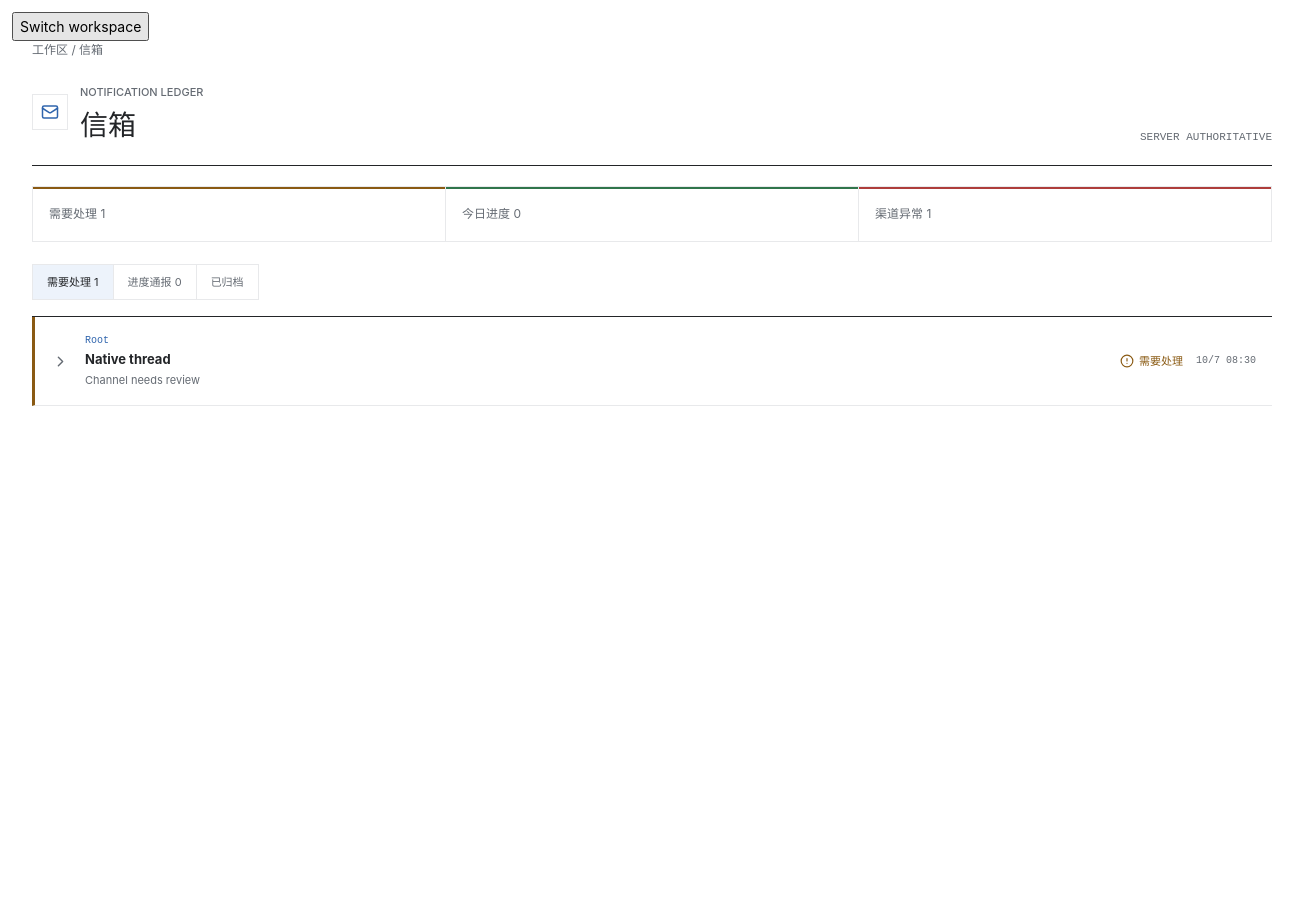
Scenario: actual native InboxPage › real native button mark_read maps legal version 4 with current user/CSRF
Expected: the text "Native thread" is shown, x1=85 y1=351 x2=171 y2=367
Click the button "Root Native thread Channel needs review 需要处理 10/7 08:30".
click(128, 359)  # box x1=35 y1=317 x2=1272 y2=405
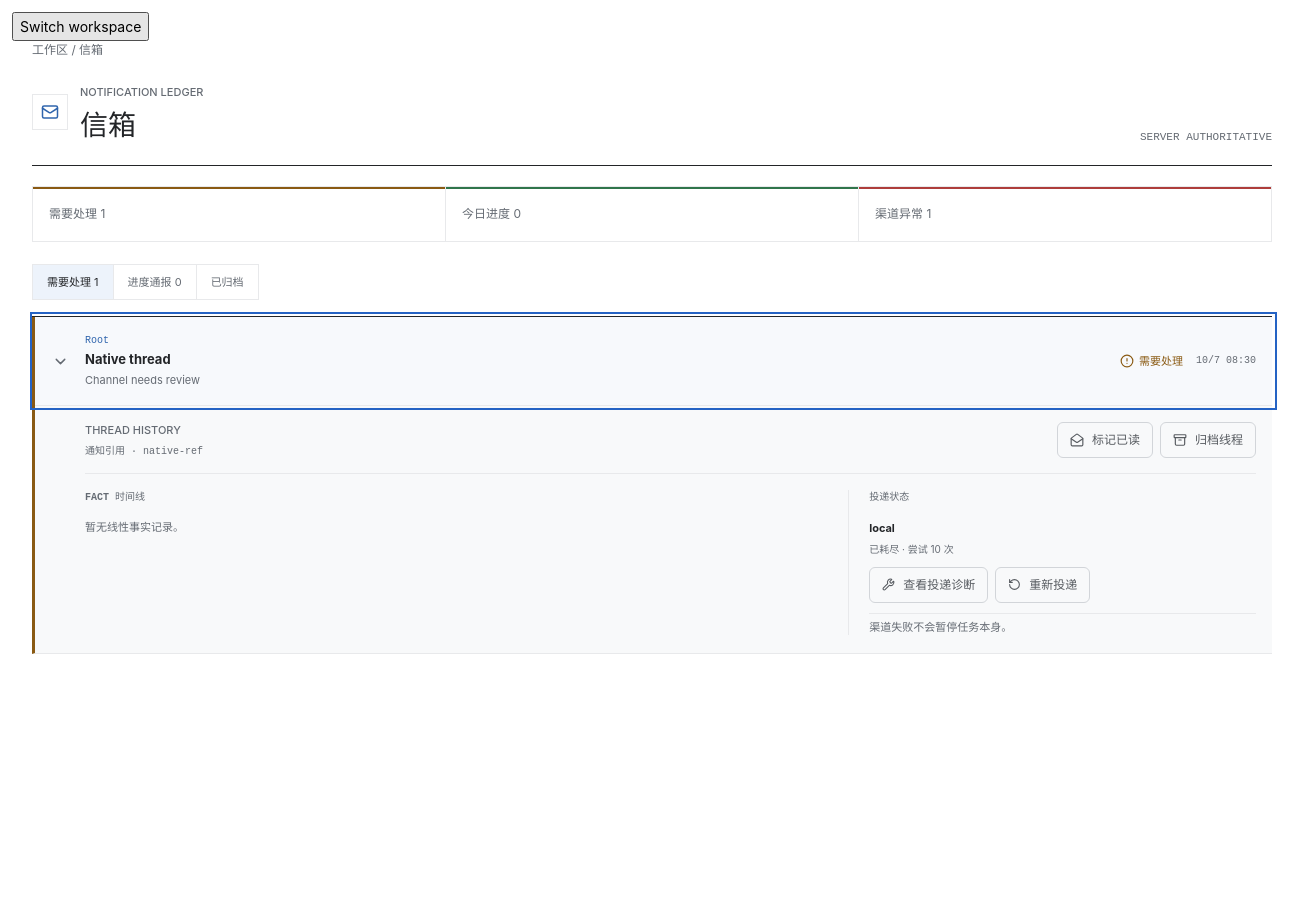
Expected: the button "标记已读" is enabled
Click the button "标记已读".
click(1105, 440)  # box x1=1057 y1=422 x2=1153 y2=458
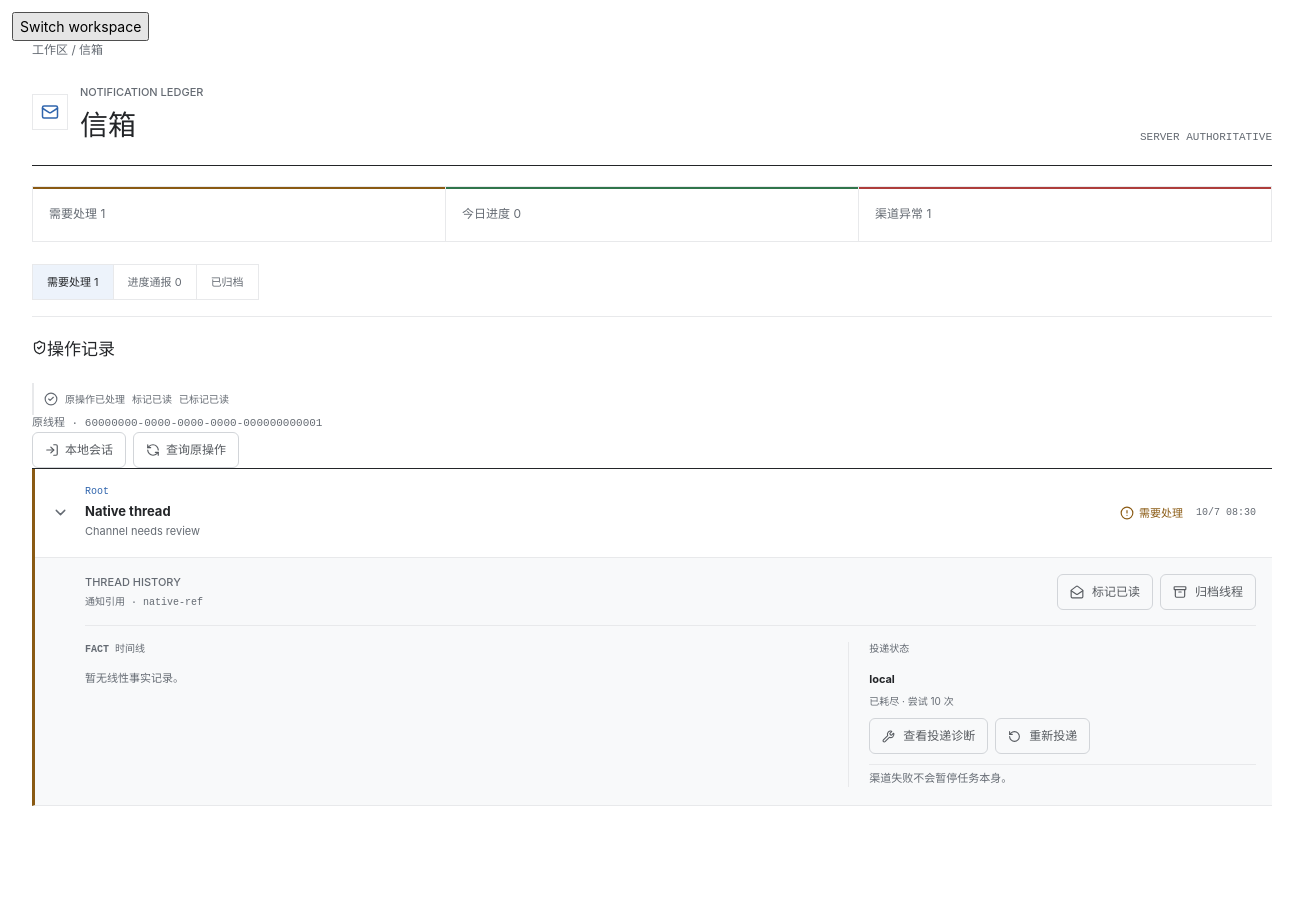
Expected: the text "已标记已读" is shown, x1=179 y1=392 x2=229 y2=406
